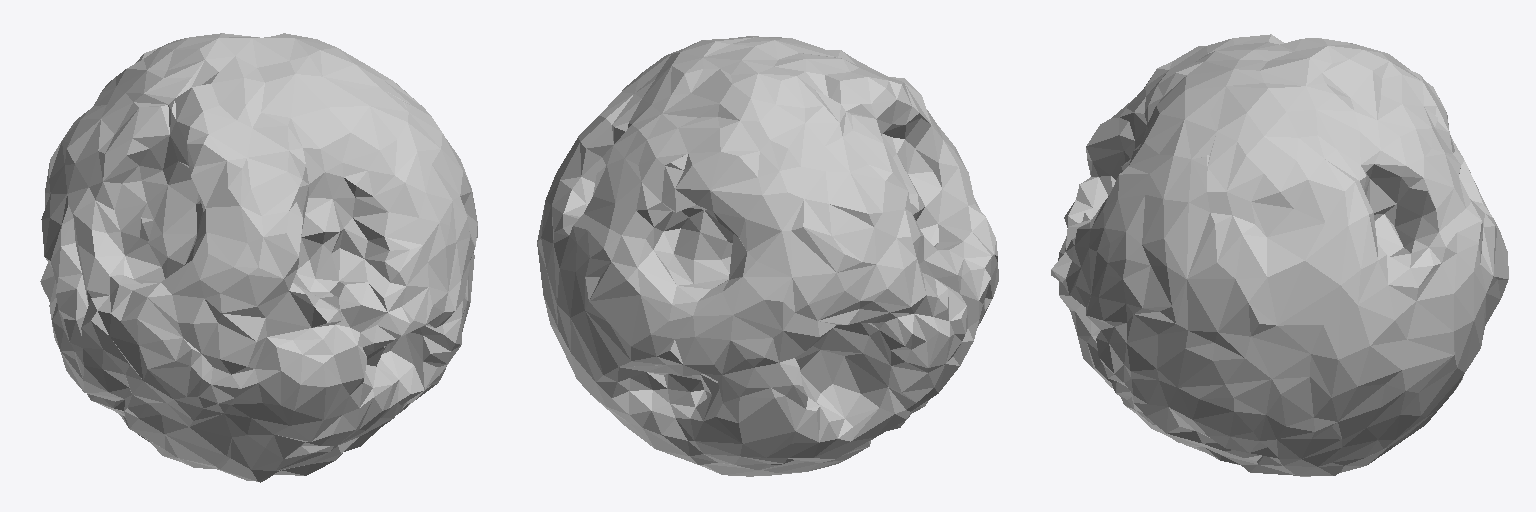
The model's file is asteroidMid.obj.
The picture shows the model from 3 angles: view 1: azimuth 30°, elevation 25°; view 2: azimuth 150°, elevation 25°; view 3: azimuth 270°, elevation 25°; orthographic projection.
Parts seen in each view (by area): view 1: file1; view 2: file1; view 3: file1.
Boxes of the visible parts, box(x1,y1,x2,y2) form: file1: box(40, 33, 477, 482); file1: box(537, 36, 998, 476); file1: box(1051, 34, 1508, 476).
Size of the model in its own units: 1.96 by 1.96 by 2.